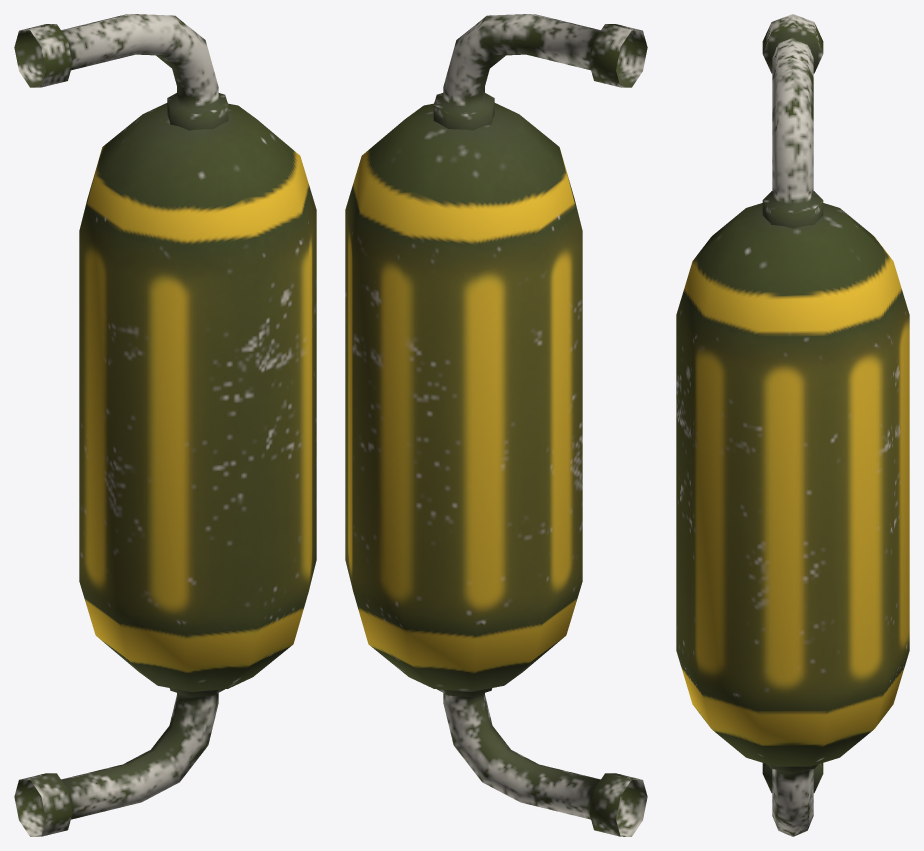
Rendered from Boss001_Target_01.FBX.
The picture shows the model from 3 angles, left to right: view 1: azimuth 30°, elevation 25°; view 2: azimuth 150°, elevation 25°; view 3: azimuth 270°, elevation 25°; orthographic projection. The views are drawn at different scales.
Parts seen in each view (by area): view 1: Boss001_Target_01; view 2: Boss001_Target_01; view 3: Boss001_Target_01.
Part boxes in pixels (x1,y1,x2,y2): Boss001_Target_01: [14, 14, 316, 836]; Boss001_Target_01: [345, 14, 647, 836]; Boss001_Target_01: [676, 14, 909, 836].
Size of the model in its own units: 162 by 467 by 127.
